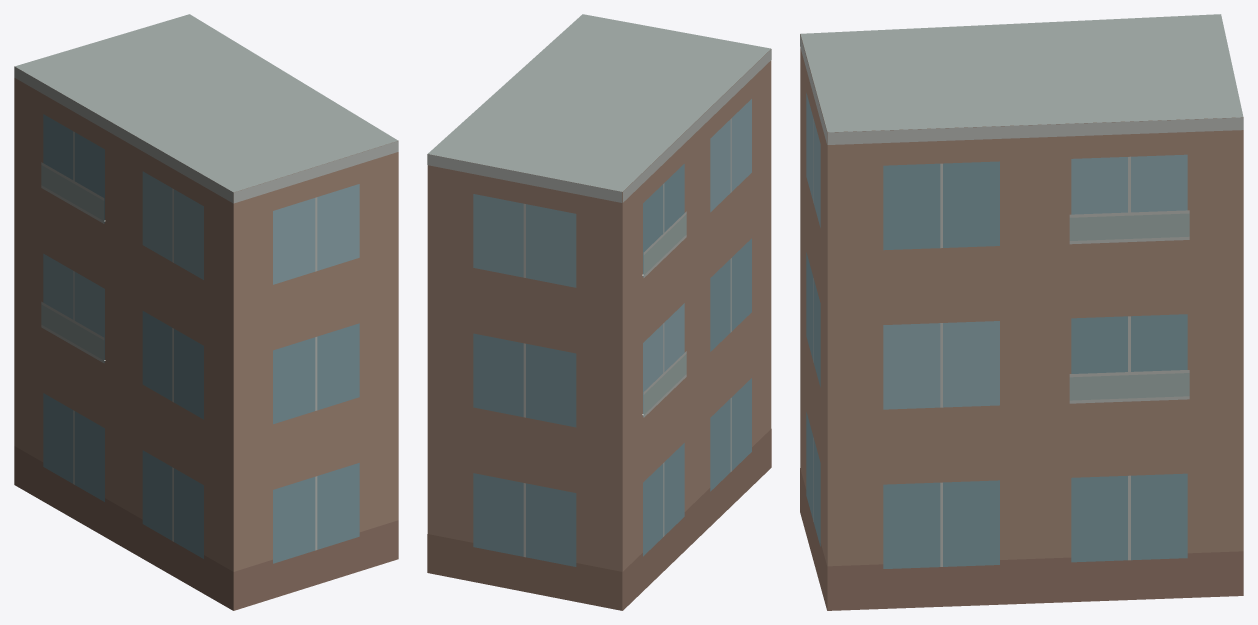
The model's file is survey-upis-32627462.glb.
3 views of the same model, side by side, from view 1: azimuth 30°, elevation 25°; view 2: azimuth 150°, elevation 25°; view 3: azimuth 270°, elevation 25° (orthographic). The views are drawn at different scales.
Visible parts, largest first — view 1: survey-upis-32627462.tmp; view 2: survey-upis-32627462.tmp; view 3: survey-upis-32627462.tmp.
Boxes of the visible parts, x1,y1,x2,y2 form: survey-upis-32627462.tmp: (14, 14, 398, 610); survey-upis-32627462.tmp: (427, 14, 771, 610); survey-upis-32627462.tmp: (800, 14, 1243, 610).
Bounding box in the file's own units: 4.86 × 9.15 × 7.69.
